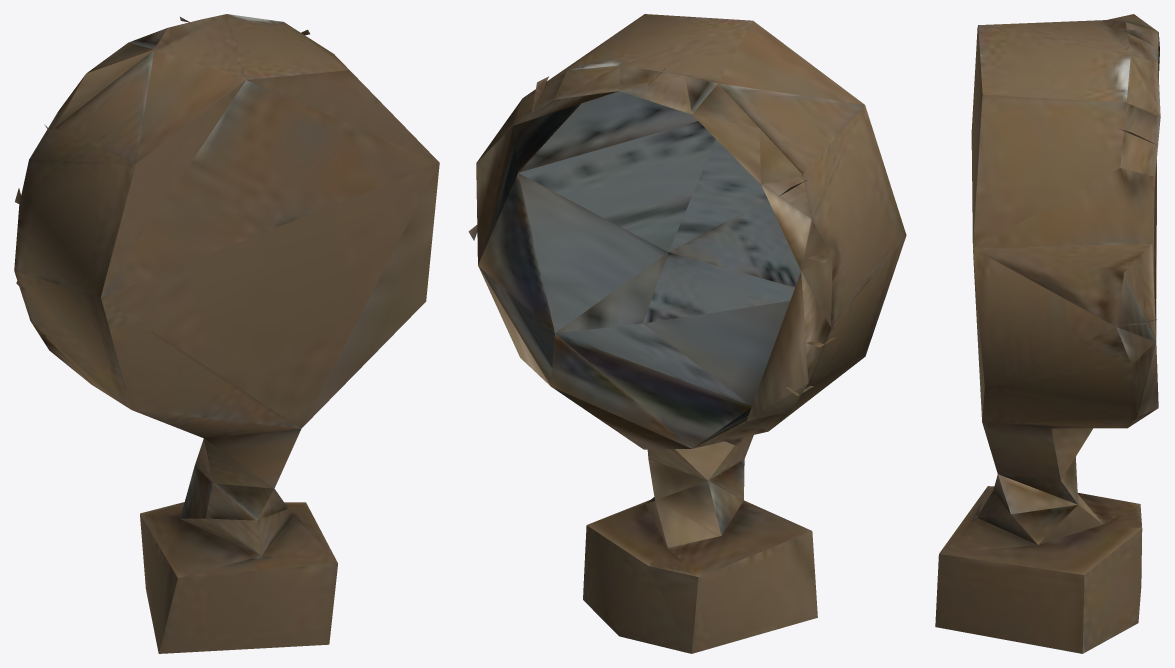
File: mj-pressure-gauge.lod1.glb
The picture shows the model from 3 angles, left to right: view 1: azimuth 30°, elevation 25°; view 2: azimuth 150°, elevation 25°; view 3: azimuth 270°, elevation 25°; orthographic projection.
Parts seen in each view (by area): view 1: mj-pressure-gauge; view 2: mj-pressure-gauge; view 3: mj-pressure-gauge.
Part boxes in pixels (bbox=[...]): mj-pressure-gauge: bbox=[14, 14, 439, 653]; mj-pressure-gauge: bbox=[468, 14, 906, 653]; mj-pressure-gauge: bbox=[935, 14, 1160, 653].
Bounding box in the file's own units: 0.2464 × 0.375 × 0.1332.
1 material, 1 textured.
